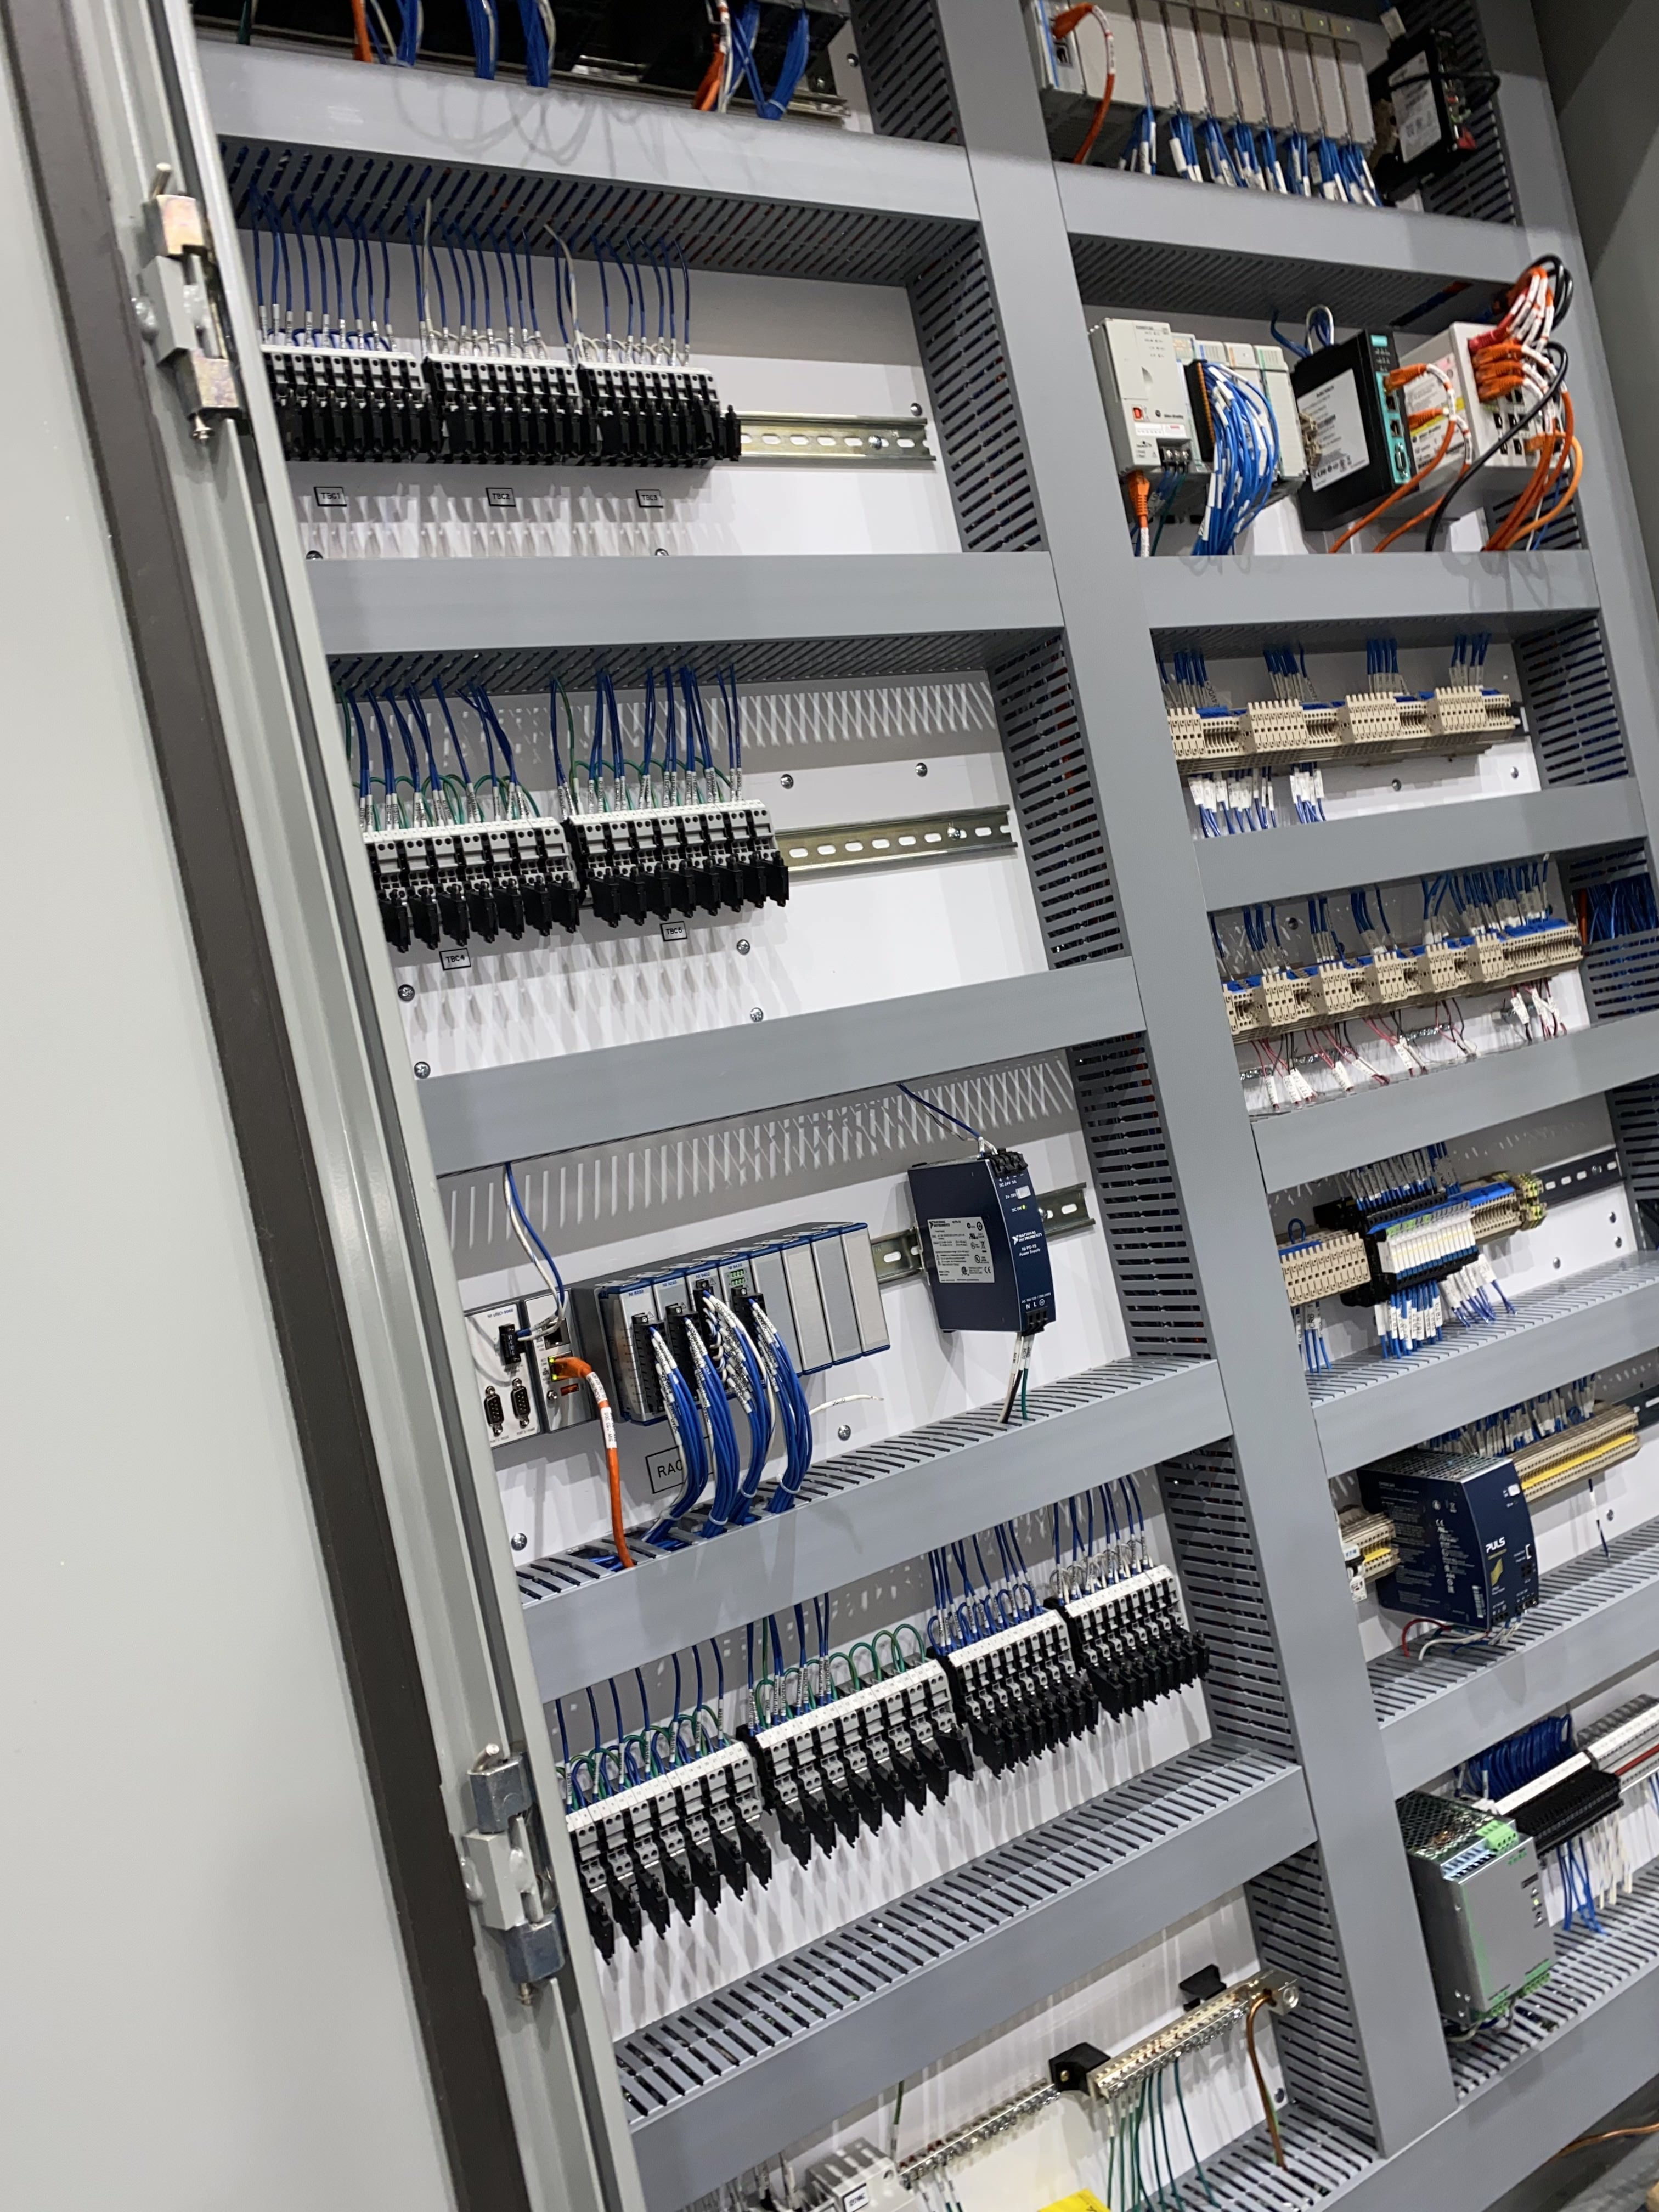AllenBradley: (1100, 312, 1199, 482)
